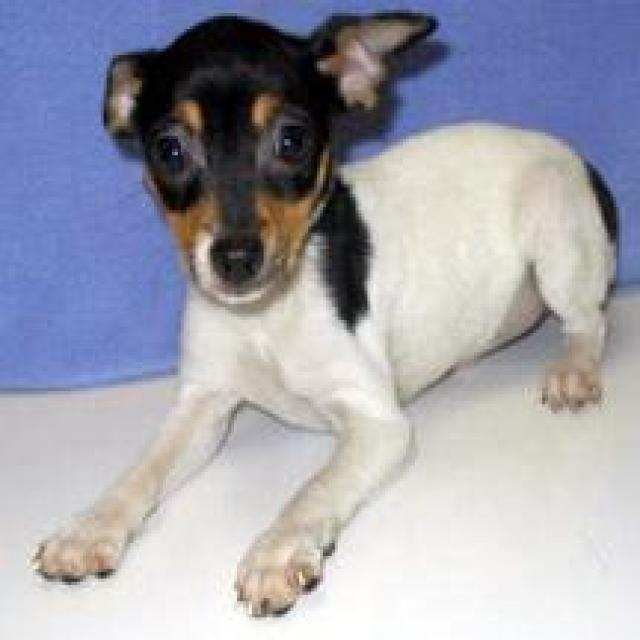toy_terrier: (27, 13, 619, 617)
